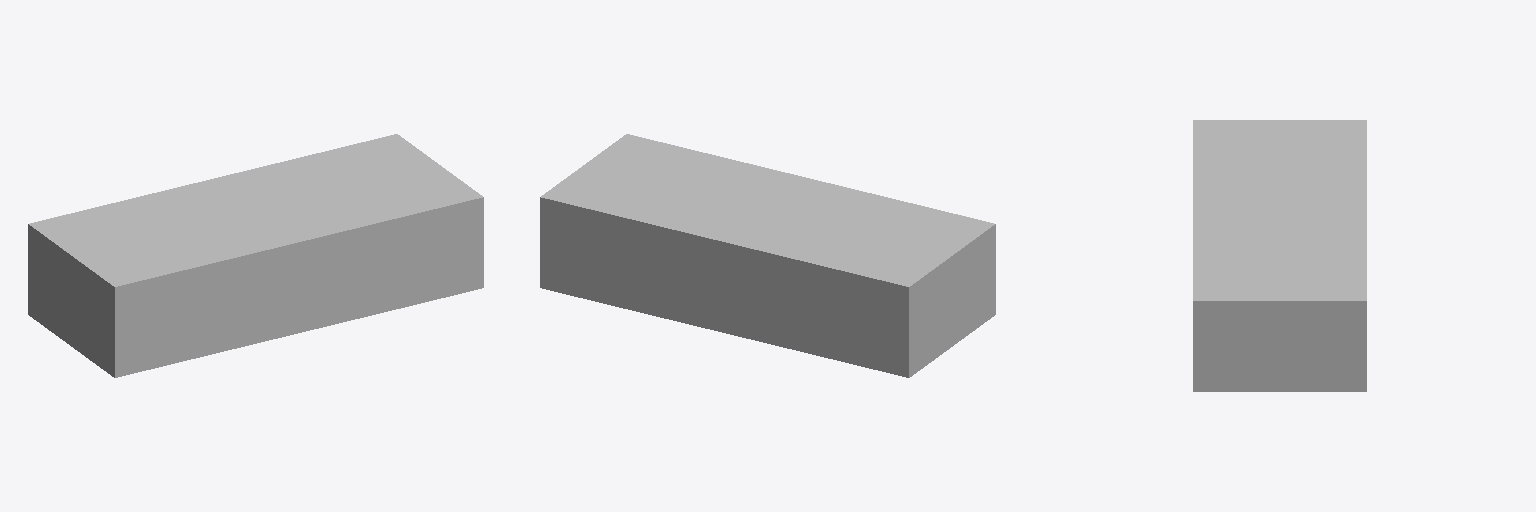
The model's file is studentloan.obj.
3 views of the same model, side by side, from view 1: azimuth 30°, elevation 25°; view 2: azimuth 150°, elevation 25°; view 3: azimuth 270°, elevation 25° (orthographic).
Parts seen in each view (by area): view 1: pCube2; view 2: pCube2; view 3: pCube2.
Part boxes in pixels (x1,y1,x2,y2): pCube2: (28,134,483,377); pCube2: (540,134,995,377); pCube2: (1193,120,1366,391).
Bounding box in the file's own units: 12.49 × 2.94 × 5.08.